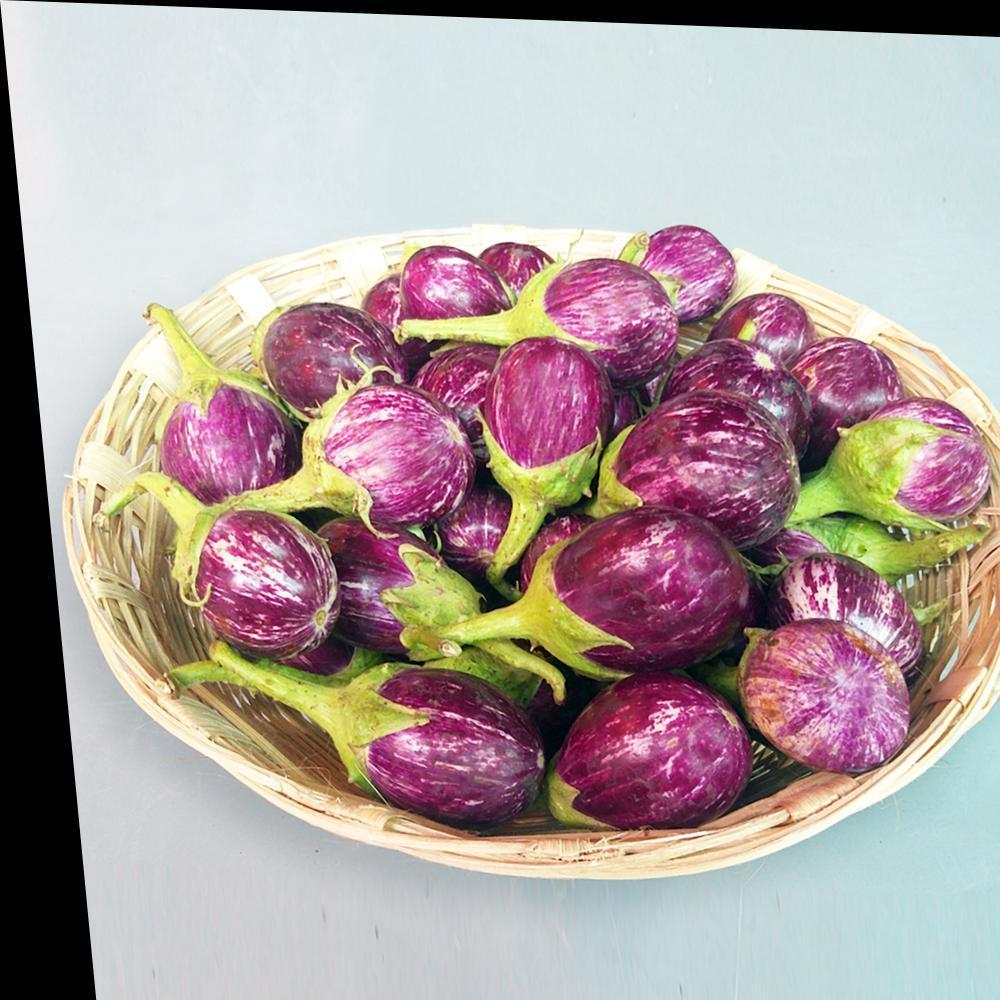eggplant: (186, 284, 875, 748)
